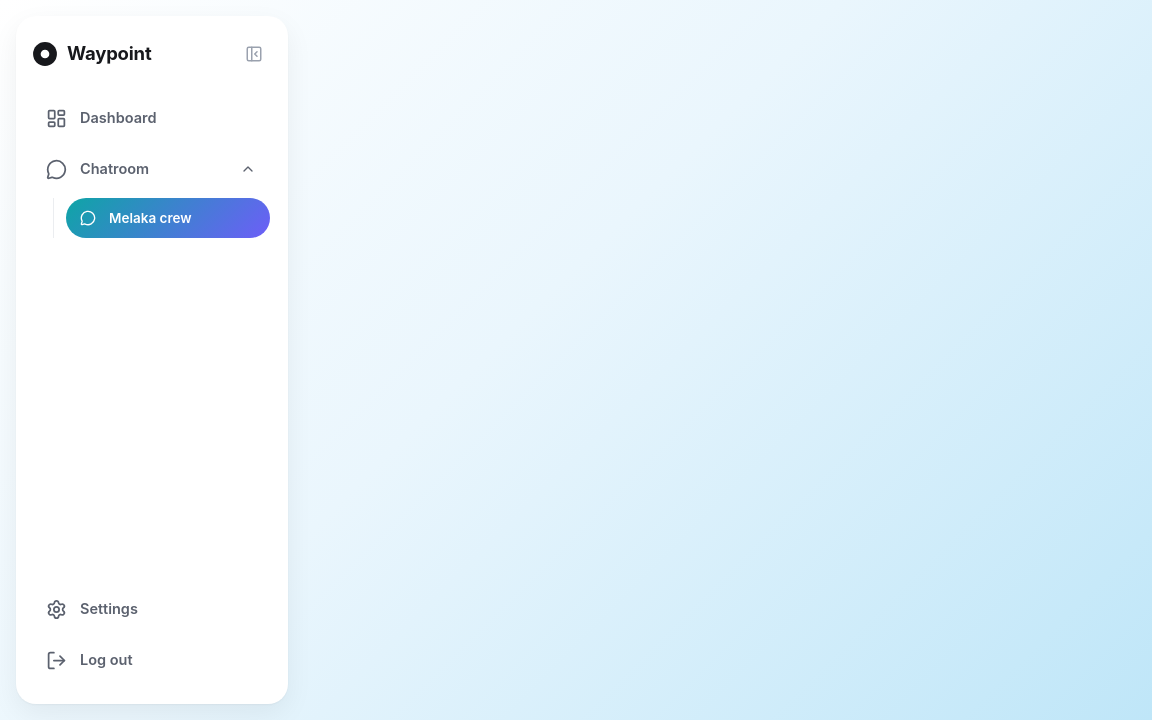
Scenario: AppShell › collapses and re-expands the trip list on toggle click, remembering the choice
Click the button "Chatroom" at (151, 169), box [32,145,270,193]
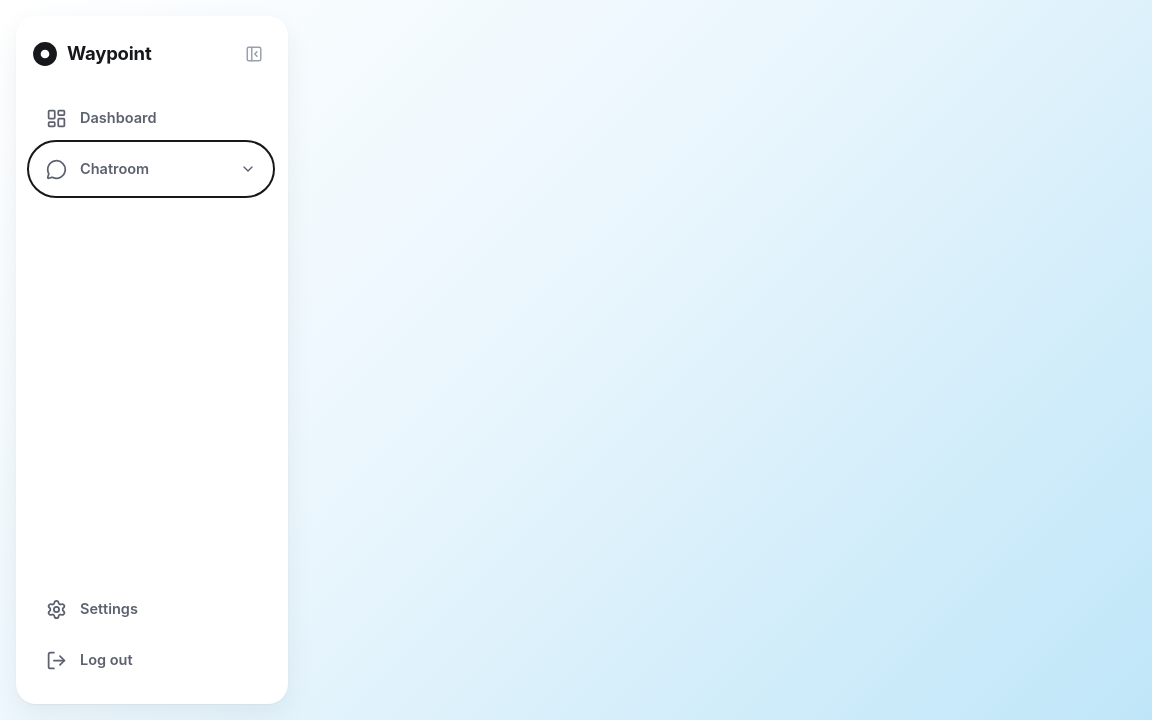
Check: the button "Chatroom" is collapsed
Check: the link "Melaka crew" is gone
Click the button "Chatroom" at (151, 169), box [32,145,270,193]
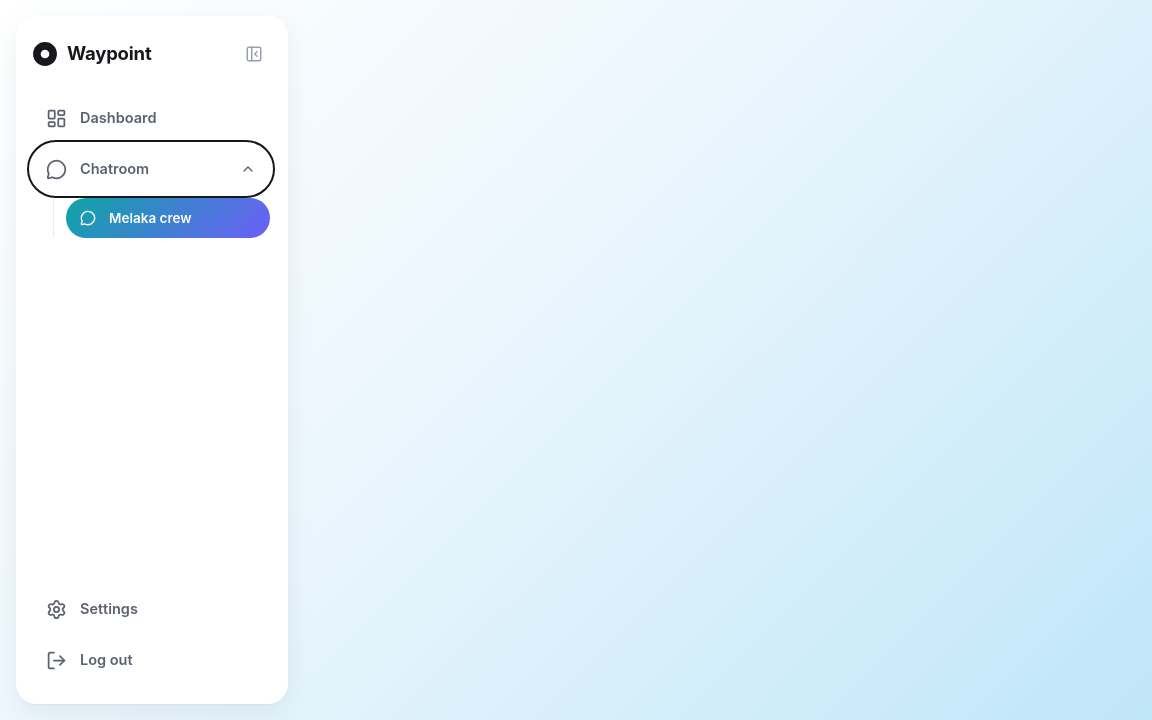
Check: the button "Chatroom" is expanded, box [32,145,270,193]
Check: the link "Melaka crew" is shown, box [66,198,270,238]
